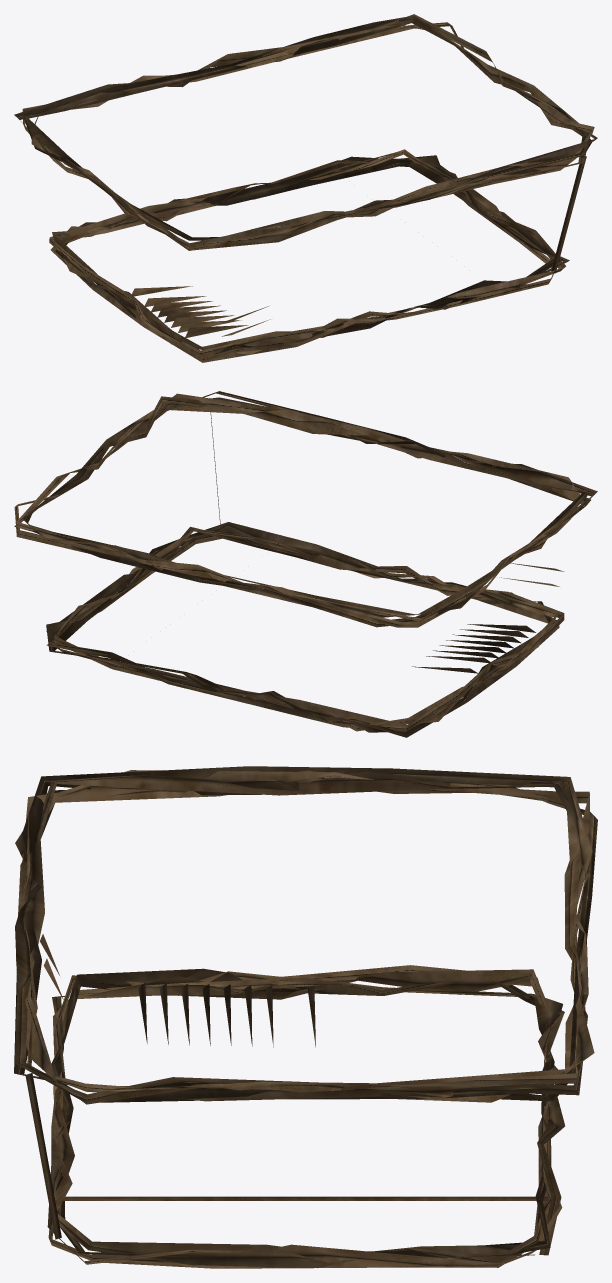
The model's file is wicker_basket_01.glb.
3 renders of one model, top to bottom at view 1: azimuth 30°, elevation 25°; view 2: azimuth 150°, elevation 25°; view 3: azimuth 270°, elevation 25°, orthographic. The views are drawn at different scales.
Visible parts, largest first — view 1: wicker_basket_01; view 2: wicker_basket_01; view 3: wicker_basket_01.
Part boxes in pixels (bbox=[...]): wicker_basket_01: bbox=[14, 14, 597, 362]; wicker_basket_01: bbox=[14, 391, 597, 737]; wicker_basket_01: bbox=[14, 766, 597, 1268].
Bounding box in the file's own units: 0.38 × 0.1171 × 0.2926.
1 material, 1 textured.
